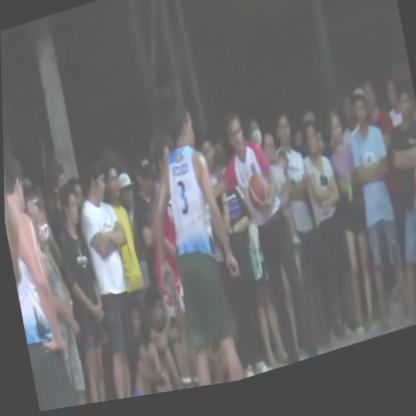basketball: (243, 174, 270, 222)
